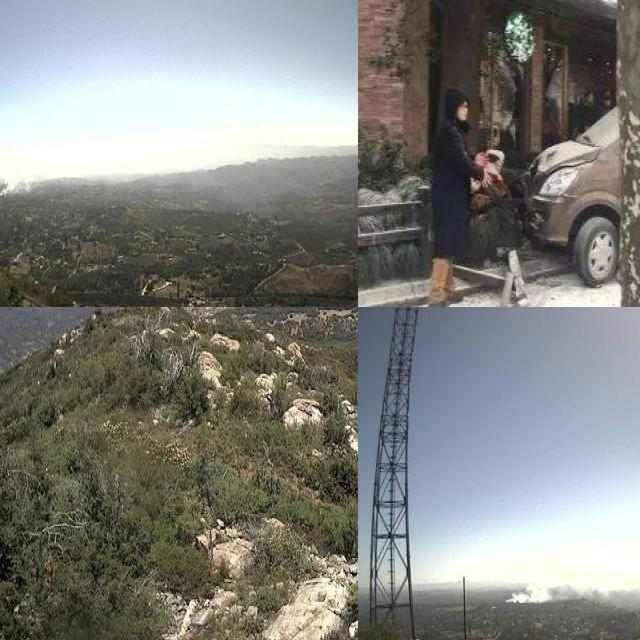smoke: (502, 545, 640, 636), (0, 163, 39, 197)
